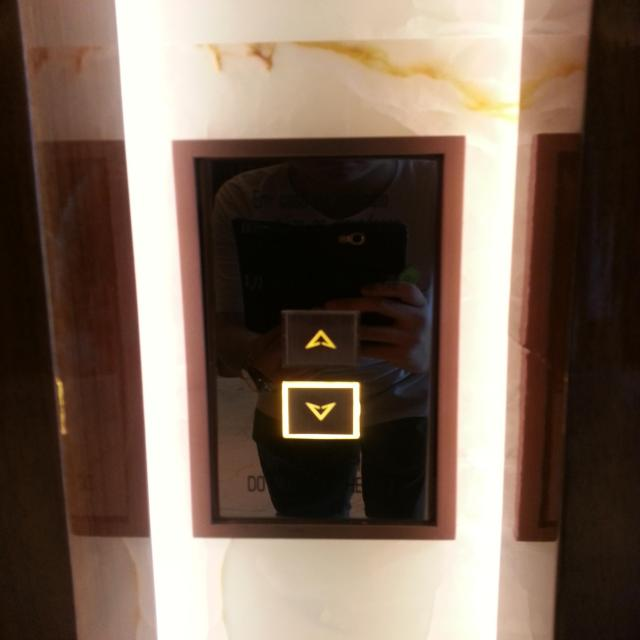down: (280, 379, 361, 439)
up: (283, 310, 357, 366)
